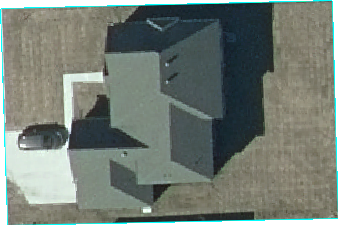house: (64, 14, 230, 212)
